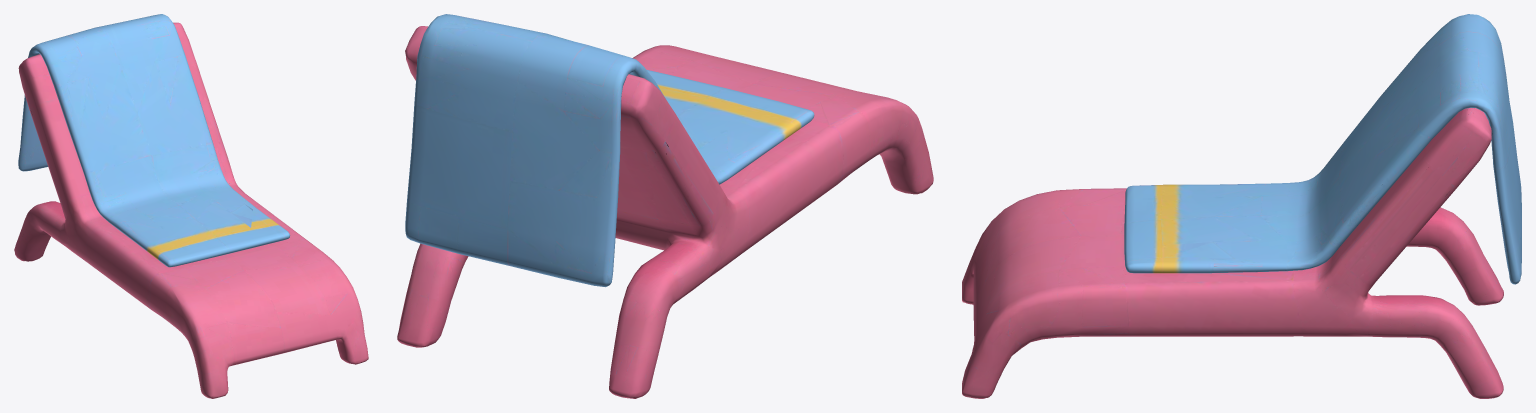
Rendered from beach-lounger.glb.
3 views of the same model, side by side, from view 1: azimuth 30°, elevation 25°; view 2: azimuth 150°, elevation 25°; view 3: azimuth 270°, elevation 25° (orthographic). The views are drawn at different scales.
Visible parts, largest first — view 1: geometry_0; view 2: geometry_0; view 3: geometry_0.
Part boxes in pixels (x1,y1,x2,y2): geometry_0: [14, 14, 368, 398]; geometry_0: [397, 14, 933, 398]; geometry_0: [962, 14, 1521, 398].
Size of the model in its own units: 0.4602 by 0.5826 by 1.
1 material, 1 textured.
